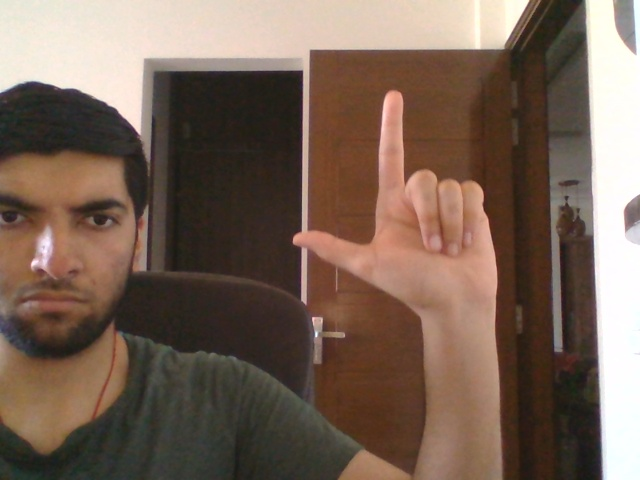LetterL: (291, 88, 498, 316)
